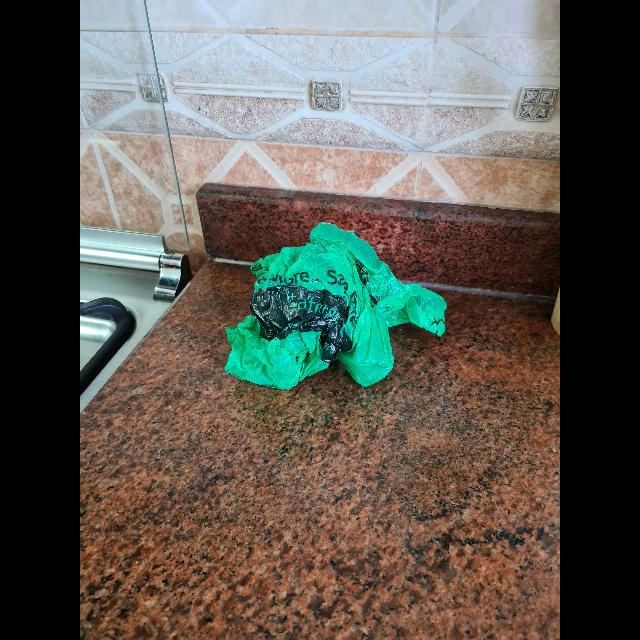plastic_bag: (220, 221, 450, 387)
